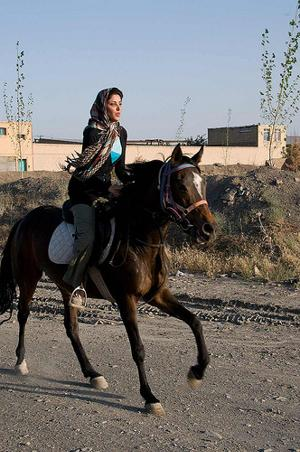person: (61, 84, 129, 310)
